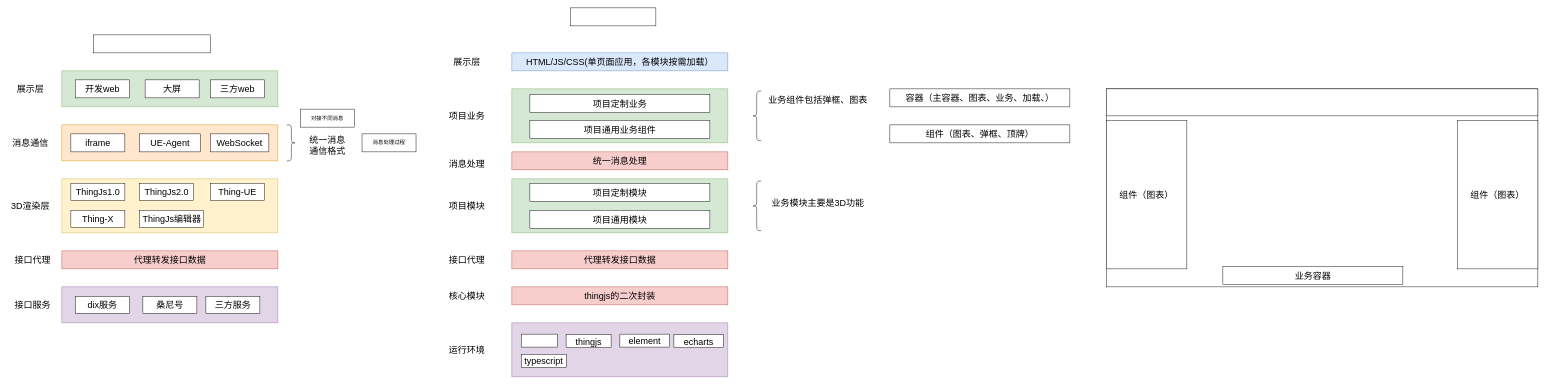
The diagram is 1546 pixels wide and 385 high, and some of its shapes have lost their labels. The shapes that lost their labels are listed below. From the top down, each one's centre as x and y in pixels, then its label:
point (613, 16): ThingJs开发模版
point (151, 43): ThingJs项目整体架构
point (1322, 102): 头部容器
point (539, 340): vite
